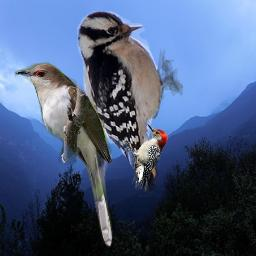Cuckoo: (13, 62, 113, 248)
Woodpecker: (77, 11, 183, 192), (122, 122, 169, 192)
